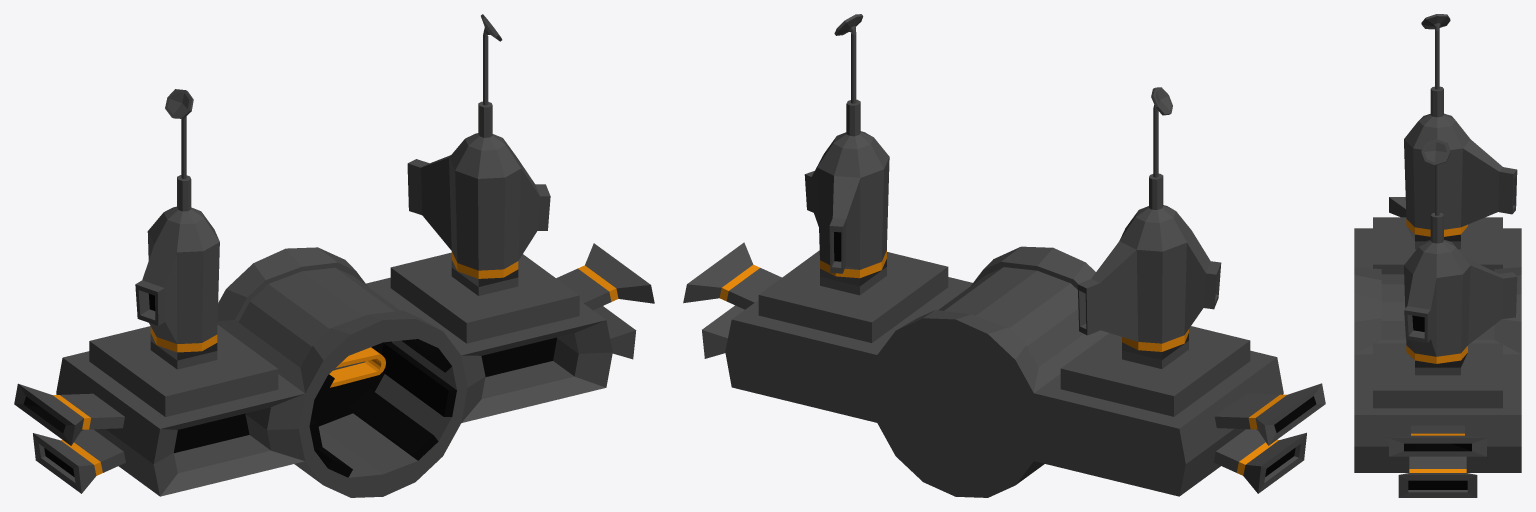
The model's file is SpaceStation.fbx.
The picture shows the model from 3 angles, left to right: view 1: azimuth 30°, elevation 25°; view 2: azimuth 150°, elevation 25°; view 3: azimuth 270°, elevation 25°; orthographic projection. The views are drawn at different scales.
Parts seen in each view (by area): view 1: SpaceStation; view 2: SpaceStation; view 3: SpaceStation.
Part boxes in pixels (x1,y1,x2,y2): SpaceStation: (14, 14, 654, 497); SpaceStation: (683, 14, 1325, 497); SpaceStation: (1354, 14, 1521, 497).
Size of the model in its own units: 43.37 by 28.98 by 12.56.
